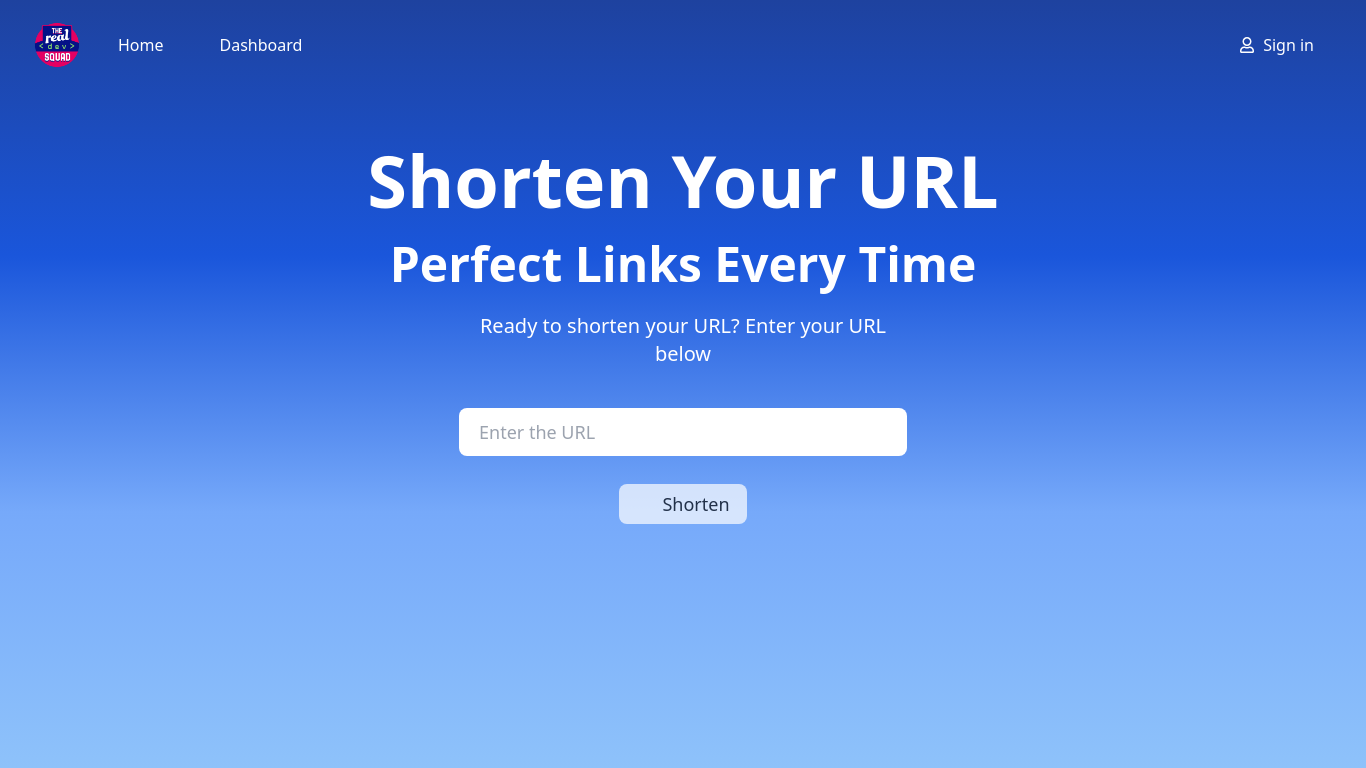
Test: App Component › closes login modal when user clicks on close button
The image size is (1366, 768).
Step 1. Type "https://www.longurl.com" into the field with placeholder "Enter the URL" → x=683, y=432, box [459,408,907,456]
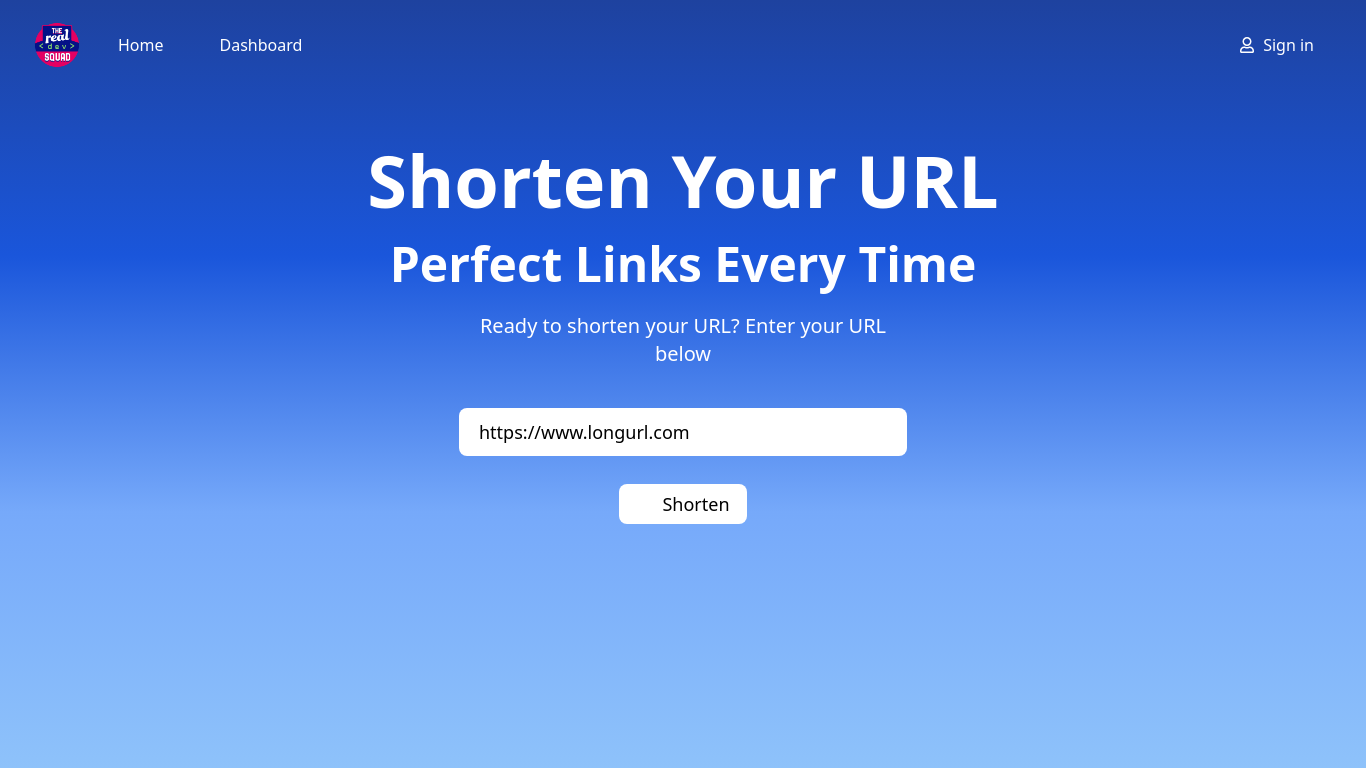
Step 2. Click the button "Shorten" → x=683, y=504, box [619,484,747,524]
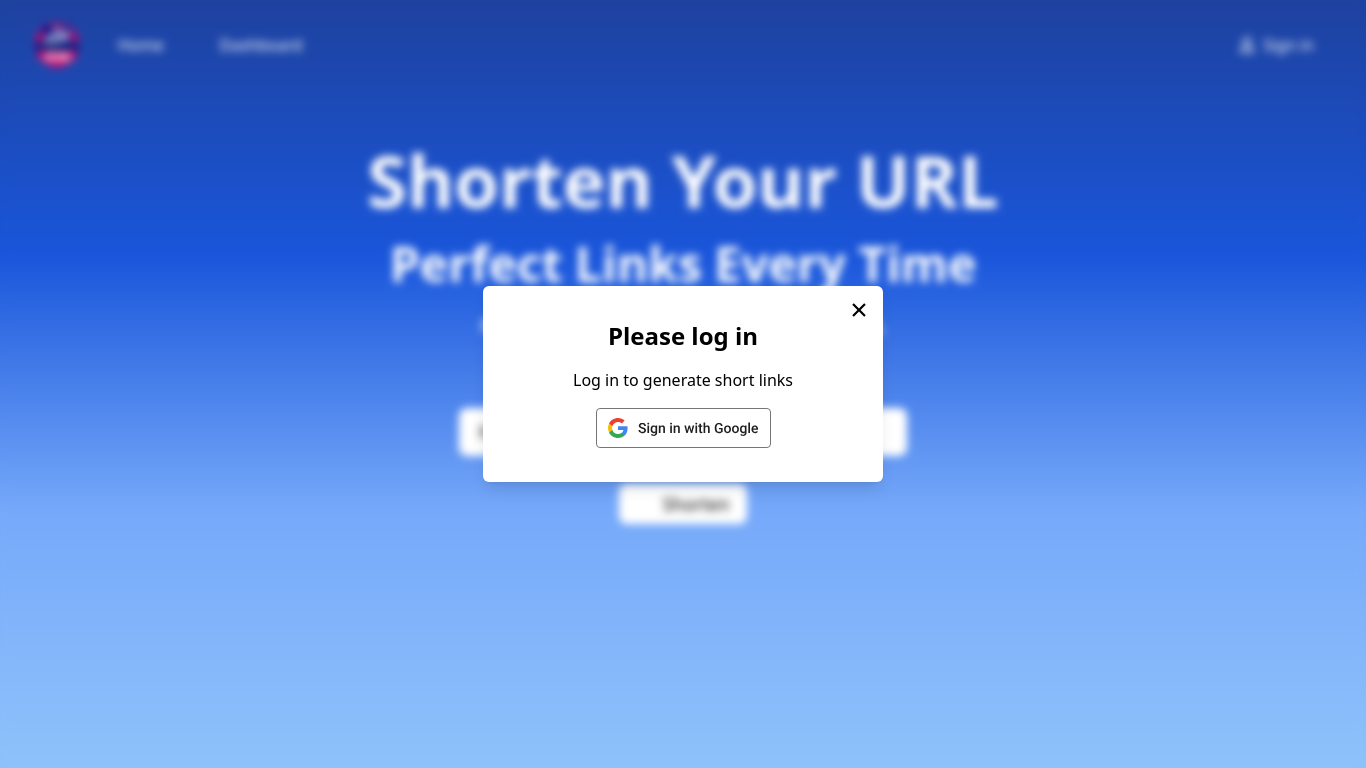
Step 3. Click the button with test id "close-modal" → x=859, y=310, box [847,298,871,322]
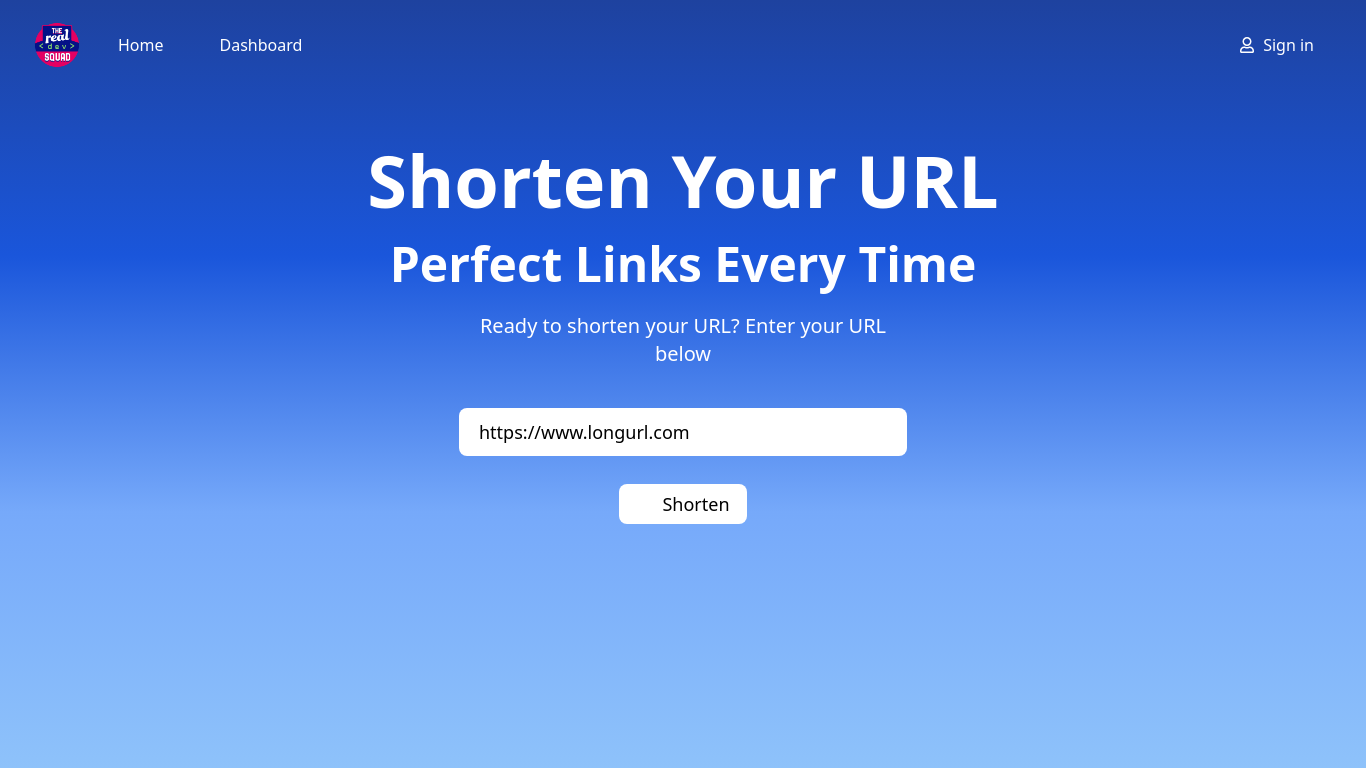
Expected: the text "Log in to generate short links" is gone
